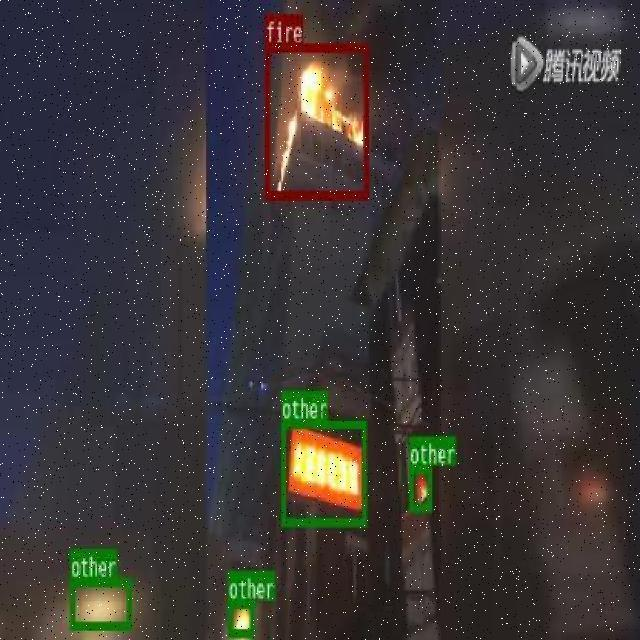Smoke: (280, 418, 366, 524), (69, 576, 131, 629), (227, 598, 253, 636), (409, 464, 431, 508)
